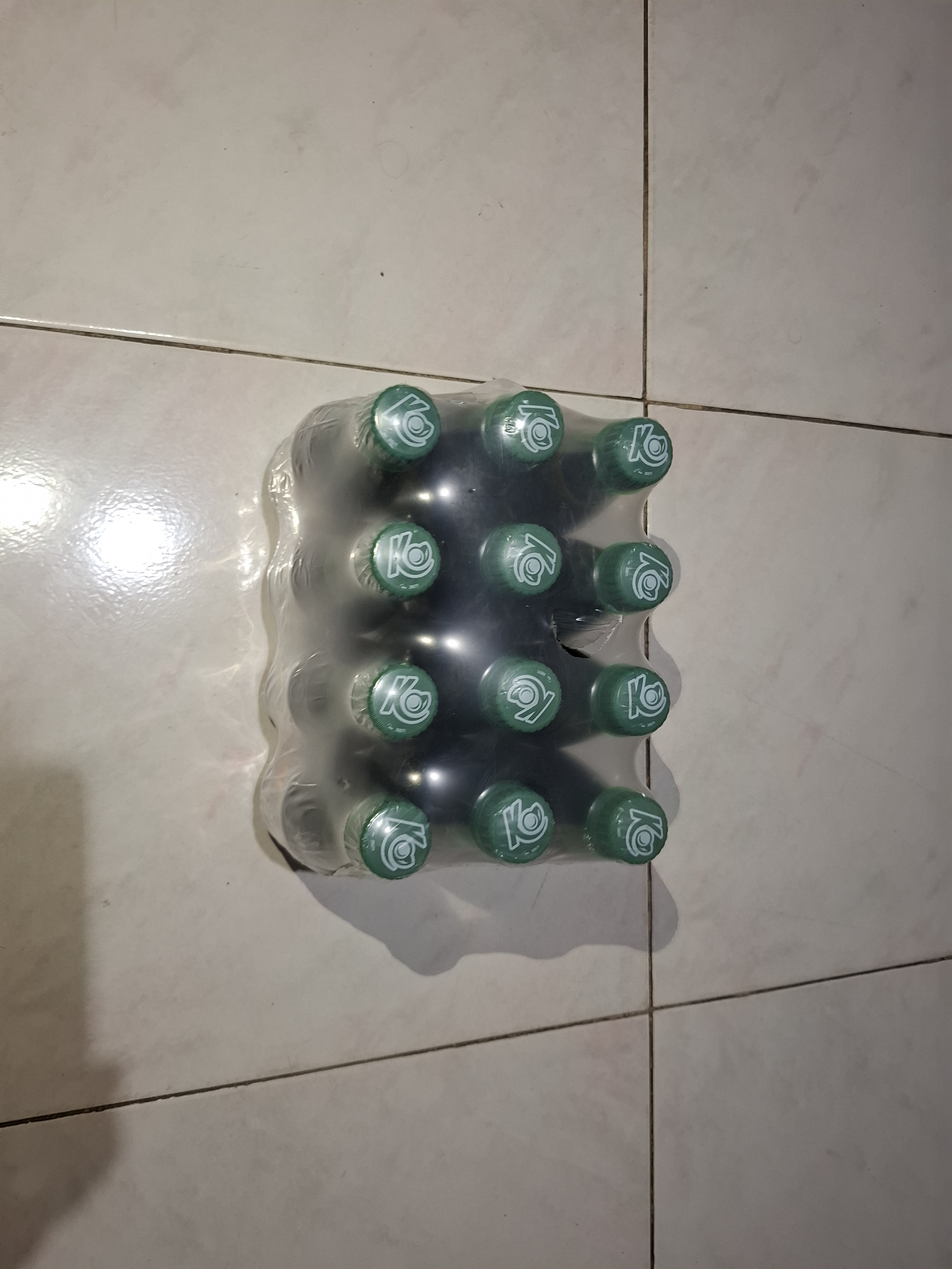Tampa Refrigerante Kuat: (345, 790, 437, 880), (355, 653, 437, 742), (488, 381, 565, 470), (369, 513, 442, 602), (596, 404, 674, 487), (370, 379, 443, 467), (599, 538, 677, 619), (479, 655, 560, 732), (600, 784, 672, 869), (479, 784, 557, 862), (485, 524, 560, 600), (602, 659, 675, 736)
